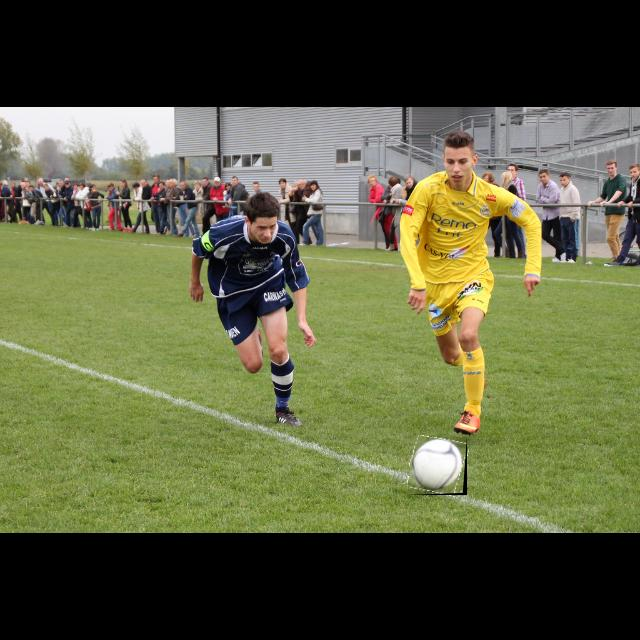Football: (409, 437, 467, 495)
